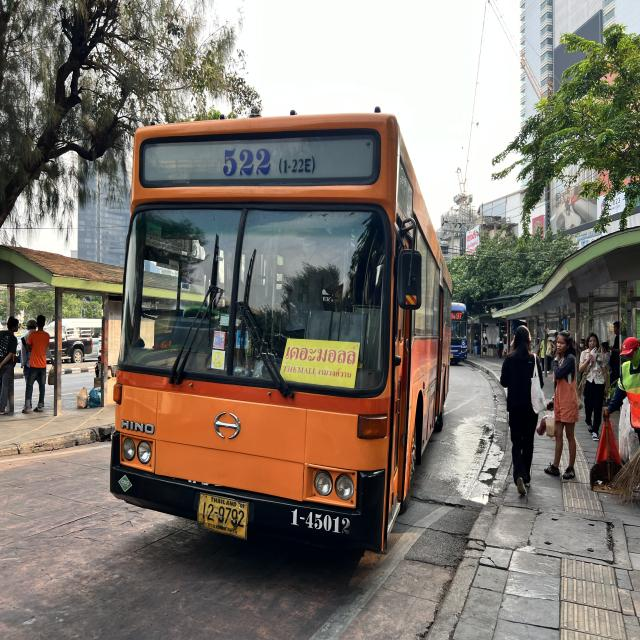BMTA-bus: (108, 101, 454, 569)
Bus-Line-Number: (215, 143, 319, 181)
Destination-Sign-Extra-Bus-Expressway: (284, 339, 358, 390)
